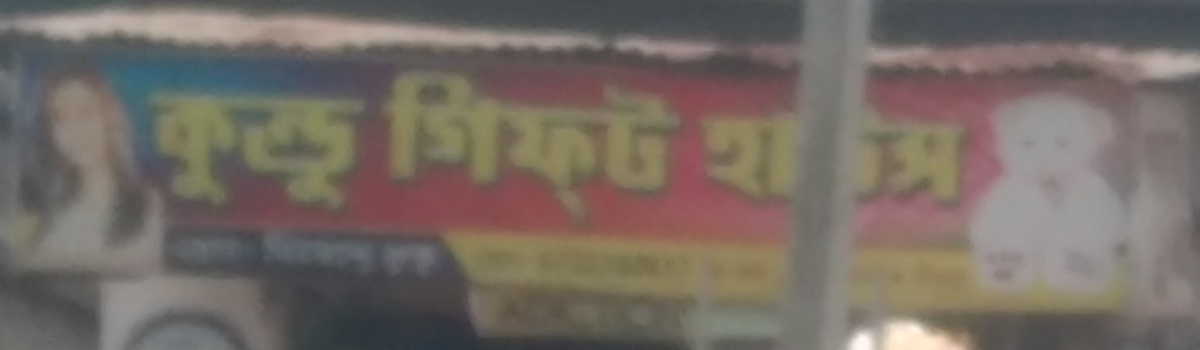text: (385, 61, 400, 232), (401, 61, 416, 232), (417, 61, 432, 232), (433, 61, 448, 232), (449, 61, 464, 232), (465, 61, 480, 232), (481, 61, 496, 232), (497, 61, 512, 232), (513, 61, 528, 232), (529, 61, 544, 232), (545, 61, 560, 232), (561, 61, 576, 232), (577, 61, 592, 232), (593, 61, 608, 232), (609, 61, 624, 232), (625, 61, 640, 232), (641, 61, 656, 232), (657, 61, 672, 232), (673, 61, 687, 232), (161, 87, 176, 214), (177, 87, 192, 214), (193, 87, 208, 214), (209, 87, 224, 214), (225, 87, 240, 214), (241, 87, 256, 214), (257, 87, 272, 214), (273, 87, 288, 214), (289, 87, 304, 214), (305, 87, 320, 214), (321, 87, 336, 214), (337, 87, 352, 214), (353, 87, 368, 214), (705, 94, 720, 218), (721, 94, 736, 218), (737, 94, 752, 218), (753, 94, 768, 218), (769, 94, 784, 218), (785, 94, 800, 218), (801, 94, 816, 218), (817, 94, 832, 218), (833, 94, 848, 218), (849, 94, 864, 218), (865, 94, 880, 218), (881, 94, 896, 218), (897, 94, 912, 218), (913, 94, 928, 218), (929, 94, 944, 218), (945, 94, 960, 218), (146, 87, 160, 214), (961, 94, 972, 218), (379, 61, 384, 232), (273, 230, 288, 284), (289, 230, 304, 284), (305, 230, 320, 284), (321, 230, 336, 284), (337, 230, 352, 284), (353, 230, 368, 284), (369, 230, 384, 284), (385, 230, 400, 284), (401, 230, 416, 284), (417, 230, 432, 284), (481, 237, 496, 287), (497, 237, 512, 287), (513, 237, 528, 287), (529, 237, 544, 287), (545, 237, 560, 287), (561, 237, 576, 287), (577, 237, 592, 287), (593, 237, 608, 287), (609, 237, 624, 287), (625, 237, 640, 287), (641, 237, 656, 287), (657, 237, 672, 287), (673, 237, 688, 287), (769, 294, 785, 338), (721, 294, 736, 338), (737, 294, 752, 338), (753, 294, 768, 338), (865, 260, 880, 300), (881, 260, 896, 300), (513, 294, 528, 332), (529, 294, 544, 332), (545, 294, 560, 332), (561, 294, 576, 332), (577, 294, 592, 332), (593, 294, 608, 332), (609, 294, 624, 332), (625, 294, 640, 332), (641, 294, 656, 332), (657, 294, 672, 332), (673, 294, 688, 332), (850, 260, 864, 300), (721, 254, 736, 291), (737, 254, 752, 291), (753, 254, 768, 291), (913, 266, 928, 302), (929, 266, 944, 302), (945, 266, 960, 302), (706, 254, 720, 291), (769, 254, 783, 291), (369, 87, 373, 214), (433, 230, 442, 284), (709, 294, 720, 338), (177, 235, 192, 267), (193, 235, 208, 267), (209, 235, 224, 267), (225, 235, 240, 267), (471, 237, 480, 287), (264, 230, 272, 284), (961, 266, 972, 302), (502, 294, 512, 332), (689, 294, 697, 332), (689, 237, 694, 287), (702, 94, 704, 218), (170, 235, 176, 267), (897, 260, 899, 300), (241, 235, 243, 267)
